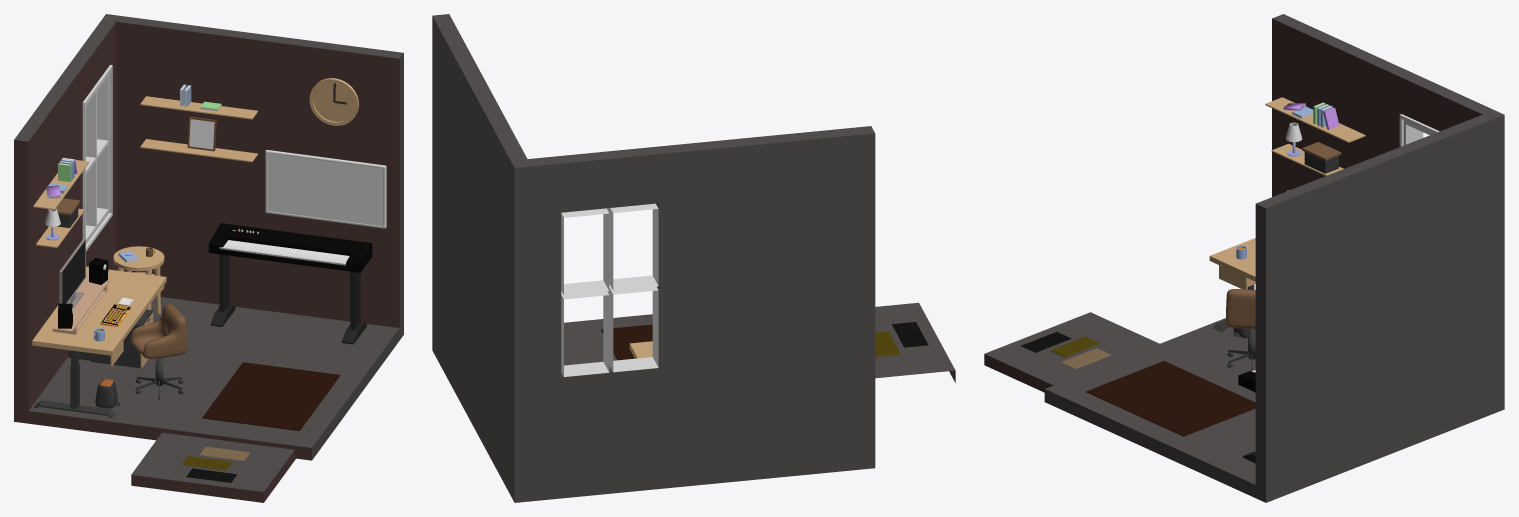
File: NewNewV3.glb
3 views of the same model, side by side, from view 1: azimuth 30°, elevation 25°; view 2: azimuth 150°, elevation 25°; view 3: azimuth 270°, elevation 25° (orthographic). The views are drawn at different scales.
Visible parts, largest first — view 1: Body, Floor Items, Desks, TV, Mini Floor, Shelves, Piano, Chair, Table Stuff, Clock, Plane.043, Plane.014 (+7 smaller); view 2: Body, Mini Floor, Floor Items, FloorThird; view 3: Body, Floor Items, Mini Floor, Shelves, Desks, Chair.
Part boxes in pixels (x1,y1,x2,y2): Body: (14, 14, 403, 460); Floor Items: (90, 309, 340, 430); Desks: (32, 246, 166, 418); TV: (267, 153, 383, 226); Mini Floor: (131, 432, 295, 502); Shelves: (33, 84, 257, 247); Piano: (208, 223, 372, 272); Chair: (130, 304, 187, 358); Table Stuff: (49, 247, 154, 341); Clock: (309, 78, 358, 125); Plane.043: (210, 254, 366, 344); Plane.014: (219, 240, 349, 265); Body: (432, 14, 875, 502); Mini Floor: (875, 302, 955, 382); Floor Items: (601, 324, 652, 360); FloorThird: (892, 322, 928, 347); Body: (1044, 14, 1504, 502); Floor Items: (1086, 328, 1255, 436); Mini Floor: (984, 312, 1159, 392); Shelves: (1265, 97, 1365, 175); Desks: (1209, 238, 1255, 332); Chair: (1226, 289, 1255, 329).
Size of the model in its own units: 27.58 by 19.76 by 31.21.
